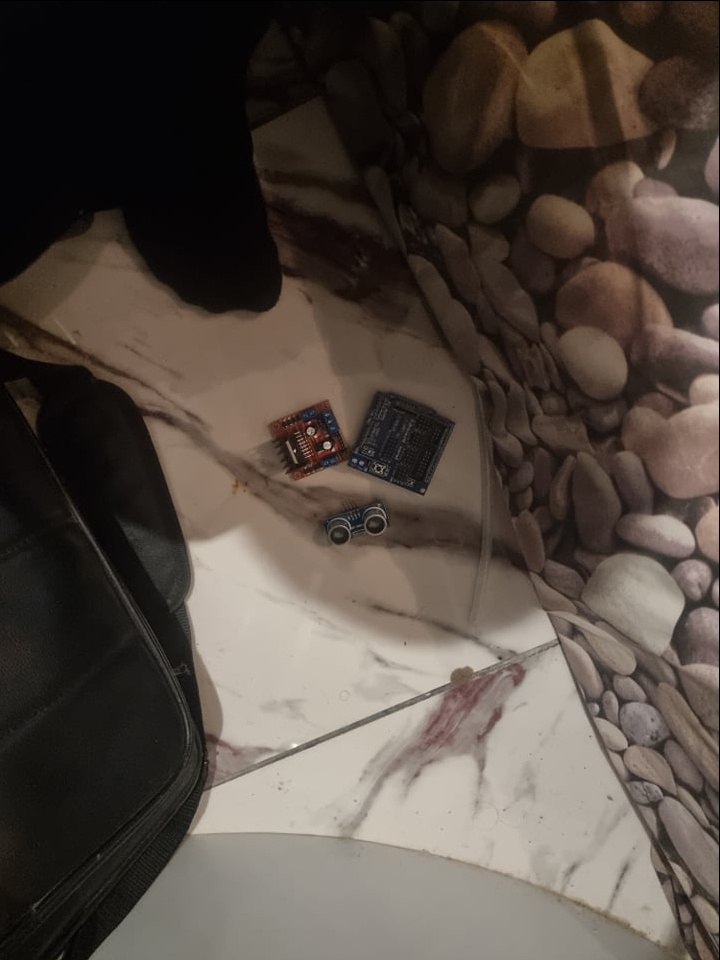5V EXPANSION: (350, 390, 455, 494)
MOTOR: (269, 397, 347, 480)
SENSOR: (327, 498, 393, 545)
